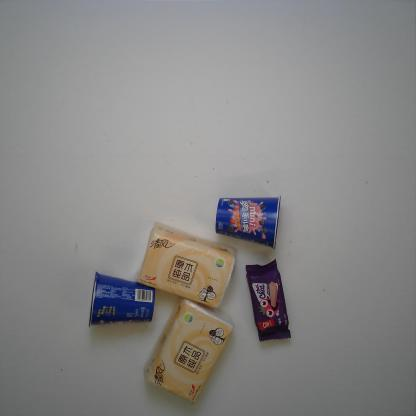Dessert: (86, 270, 157, 330), (244, 259, 294, 343), (214, 193, 284, 250)
Tissue: (144, 298, 235, 404), (135, 220, 237, 310)
